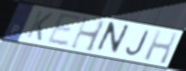E: (45, 11, 83, 48)
H: (68, 15, 108, 54), (142, 29, 180, 66)
J: (125, 29, 151, 57)
K: (24, 9, 55, 43)
N: (92, 20, 132, 56)
